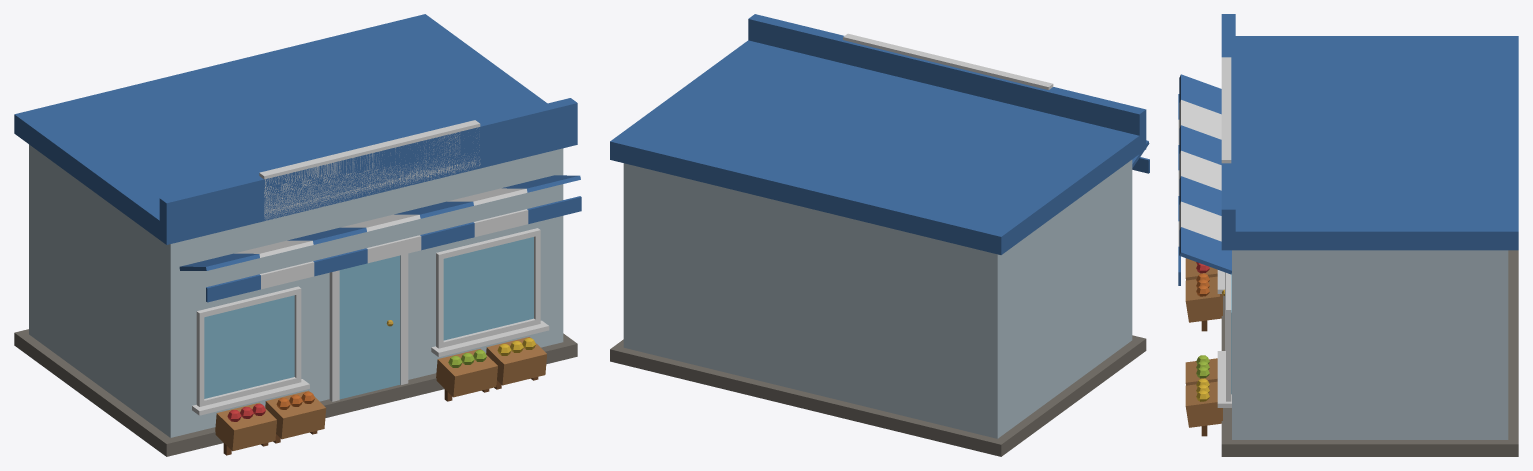
Rendered from shop.gltf.
3 views of the same model, side by side, from view 1: azimuth 30°, elevation 25°; view 2: azimuth 150°, elevation 25°; view 3: azimuth 270°, elevation 25° (orthographic). The views are drawn at different scales.
Visible parts, largest first — view 1: shop; view 2: shop; view 3: shop.
Boxes of the visible parts, x1,y1,x2,y2 form: shop: (14, 14, 581, 456); shop: (610, 14, 1149, 456); shop: (1178, 14, 1518, 456).
Bounding box in the file's own units: 6.7 × 4.05 × 4.93.
